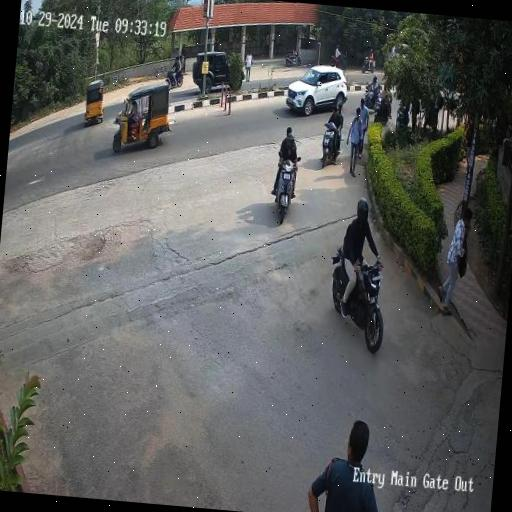helmet: (348, 198, 376, 237)
no helmet: (278, 124, 304, 154), (328, 102, 352, 128)
